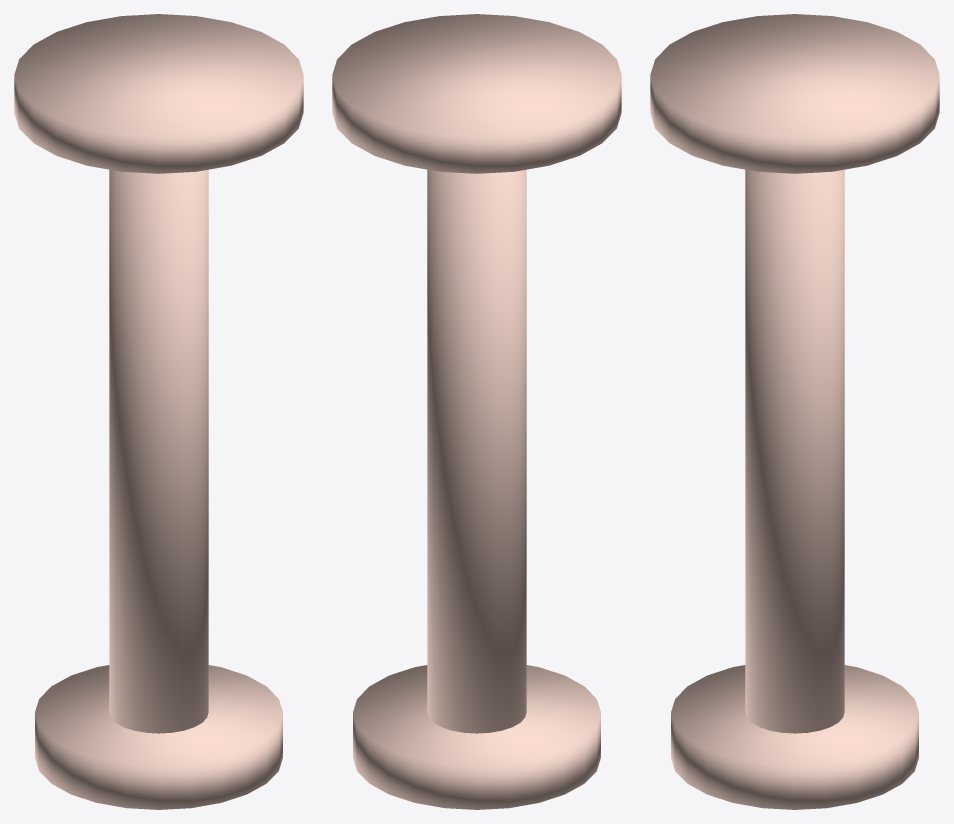
Rendered from labret-rose-gold-585-disc-8mm-16g.glb.
3 views of the same model, side by side, from view 1: azimuth 30°, elevation 25°; view 2: azimuth 150°, elevation 25°; view 3: azimuth 270°, elevation 25° (orthographic).
Parts seen in each view (by area): view 1: labret_stud; view 2: labret_stud; view 3: labret_stud.
Part boxes in pixels (<box>): labret_stud: <box>14,14,303,809</box>; labret_stud: <box>332,14,621,809</box>; labret_stud: <box>650,14,939,809</box>.
Bounding box in the file's own units: 0.0035 × 0.0091 × 0.0035.
